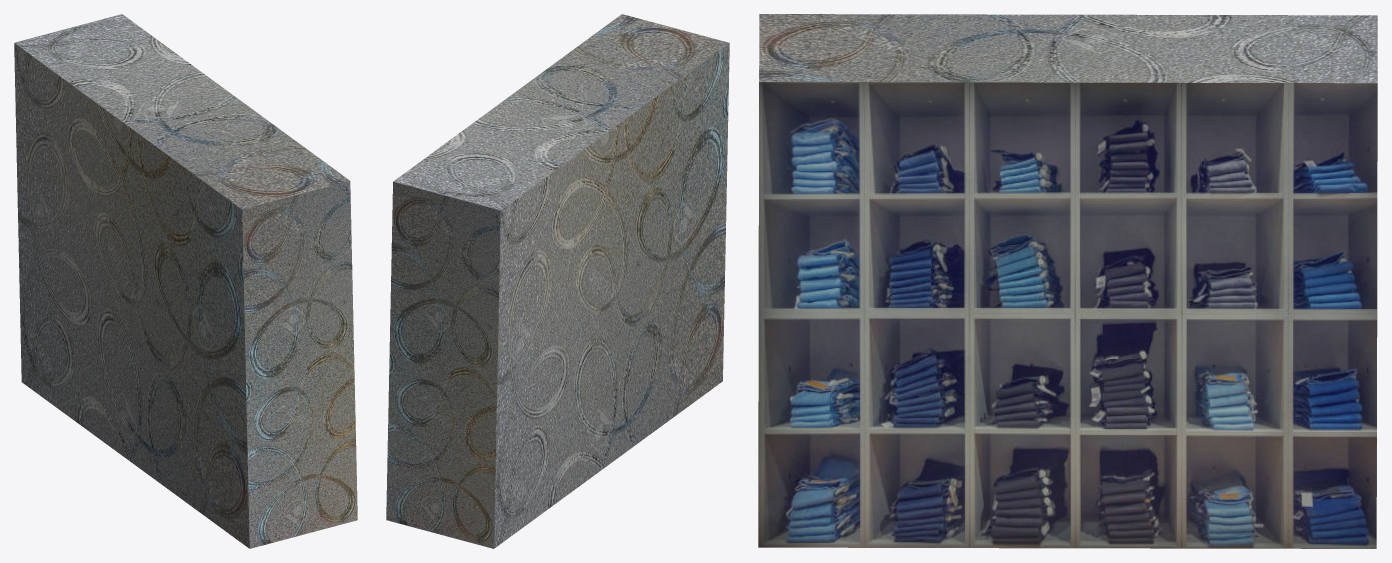
File: clothshelf3.glb
The picture shows the model from 3 angles, left to right: view 1: azimuth 30°, elevation 25°; view 2: azimuth 150°, elevation 25°; view 3: azimuth 270°, elevation 25°; orthographic projection. The views are drawn at different scales.
Visible parts, largest first — view 1: Cube; view 2: Cube; view 3: Cube.
Part boxes in pixels (x1,y1,x2,y2): Cube: [14, 14, 357, 548]; Cube: [386, 14, 729, 548]; Cube: [758, 14, 1377, 548].
Bounding box in the file's own units: 0.7407 × 2.1 × 2.54.
2 materials, 2 textured.
